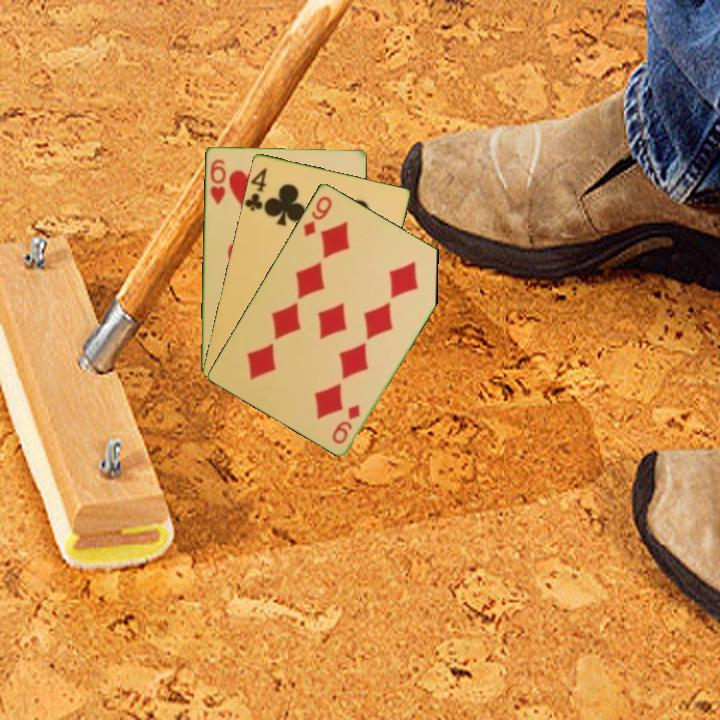4c: (242, 164, 269, 214)
6h: (206, 155, 228, 207)
9d: (299, 192, 335, 239), (328, 400, 363, 447)
